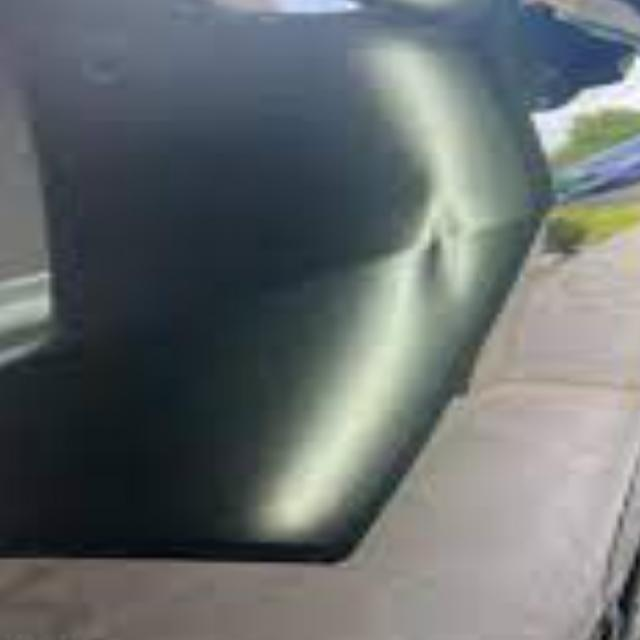dents: (342, 179, 516, 319)
